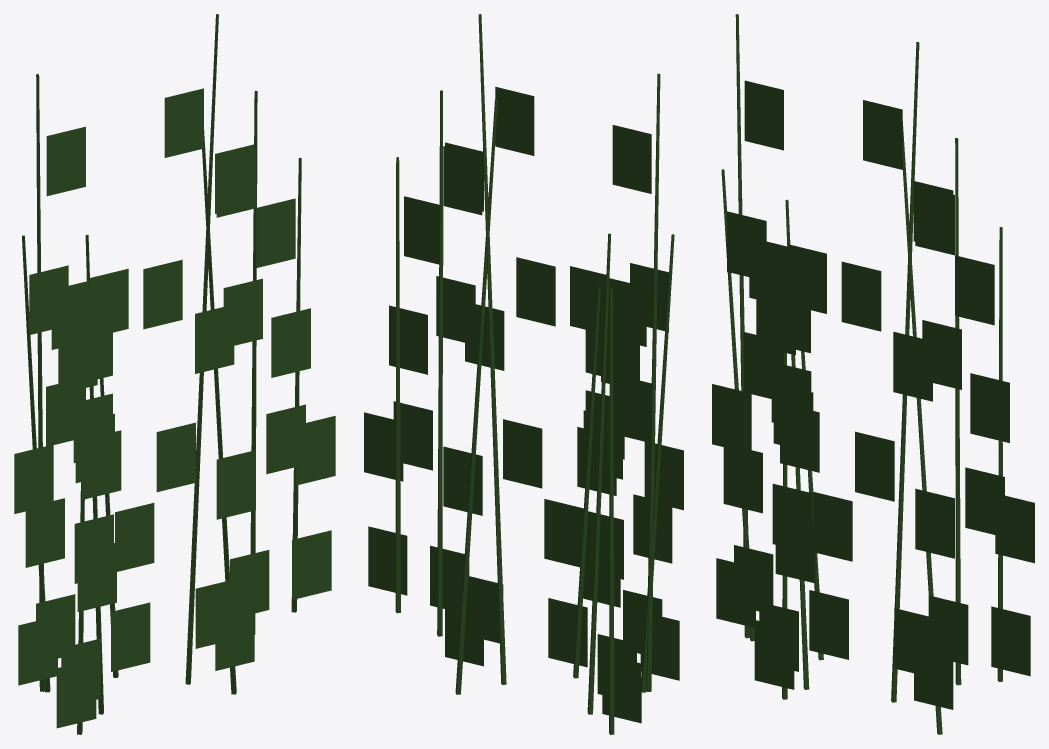
The model's file is midcity_wall_vines_hanging.obj.
The picture shows the model from 3 angles, left to right: view 1: azimuth 30°, elevation 25°; view 2: azimuth 150°, elevation 25°; view 3: azimuth 330°, elevation 25°; orthographic projection.
Visible parts, largest first — view 1: midcity_wall_vines_hanging; view 2: midcity_wall_vines_hanging; view 3: midcity_wall_vines_hanging.
Boxes of the visible parts, <box> form: midcity_wall_vines_hanging: <box>14,14,335,734</box>; midcity_wall_vines_hanging: <box>364,14,683,734</box>; midcity_wall_vines_hanging: <box>712,14,1034,734</box>.
Bounding box in the file's own units: 1.06 × 2.17 × 0.029.
